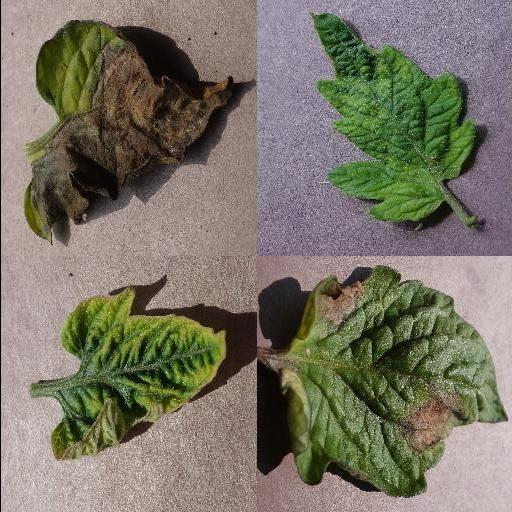Late Blight: (277, 265, 509, 499), (22, 21, 232, 245)
Mosaic Virus: (306, 9, 474, 223)
Yellow Leaf Curl Virus: (48, 286, 226, 462)
